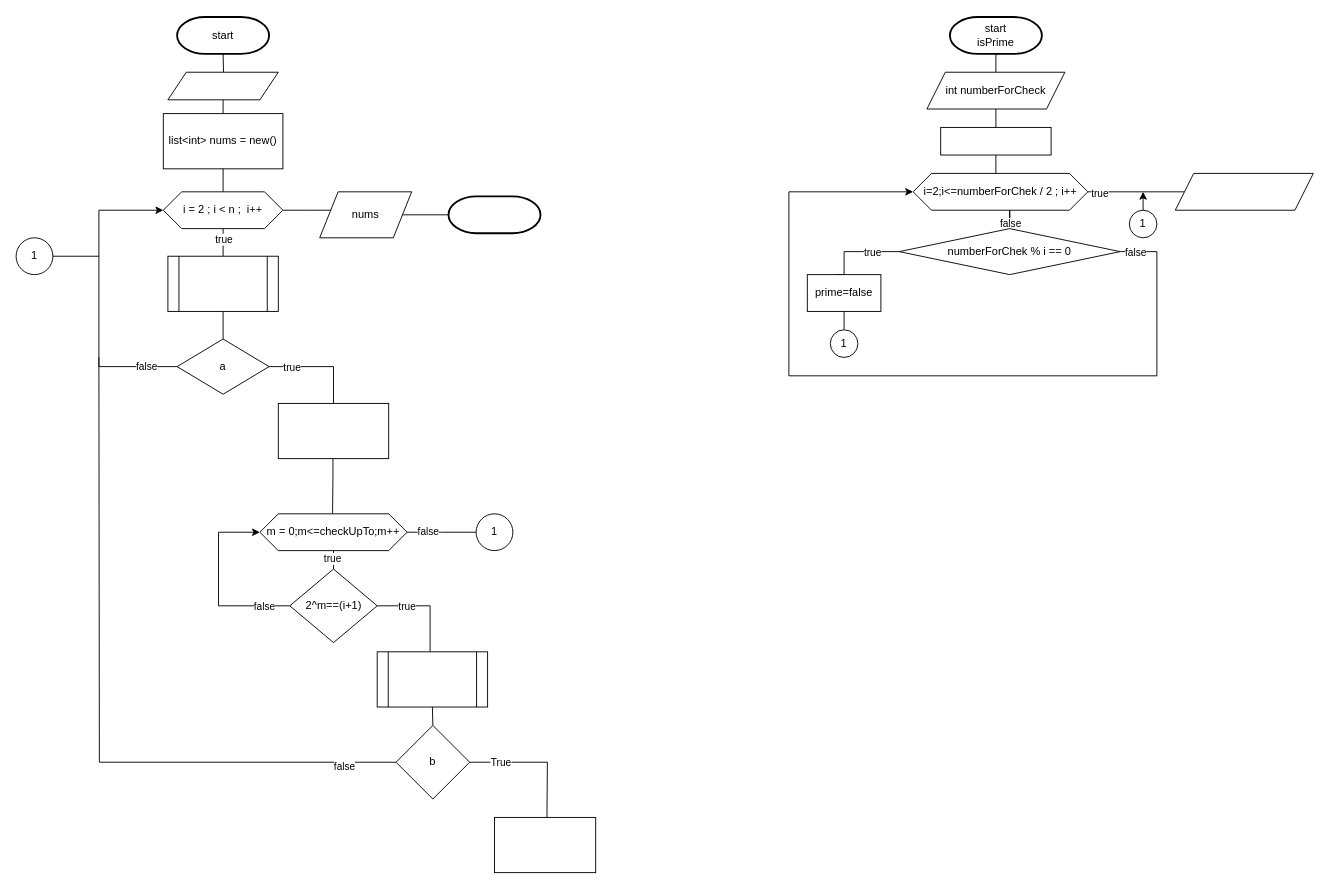
The diagram is 1329 pixels wide and 889 high, and some of its shapes have lost their labels. The shapes that lost their labels are listed below. From the top down, each one's box as (x1, y1, x2, y2) in pixels, then its label:
(167, 71, 278, 100): int n
(940, 126, 1051, 155): bool prime = true
(1174, 172, 1313, 210): return prime
(447, 195, 541, 234): end
(167, 255, 278, 311): a=isPrime(i)
(277, 402, 389, 459): checkUpTo=log2(i+1)
(376, 651, 488, 707): b=isPrime(i)
(494, 816, 596, 873): nums.Add(i)
